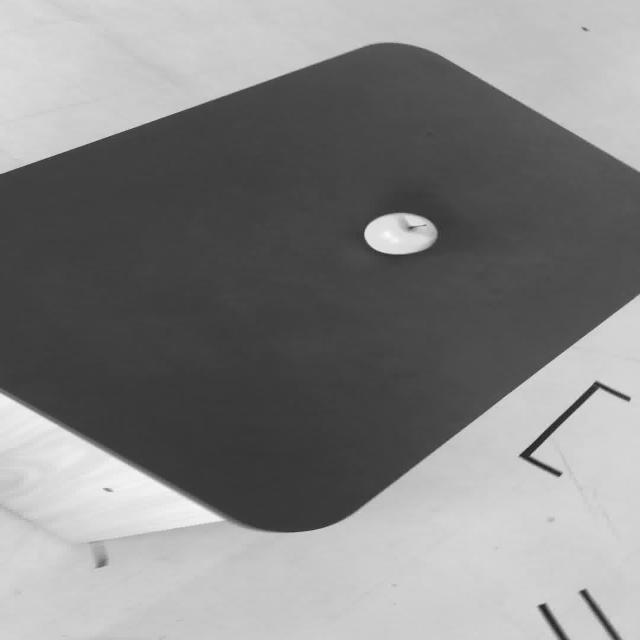apple: (362, 211, 438, 255)
